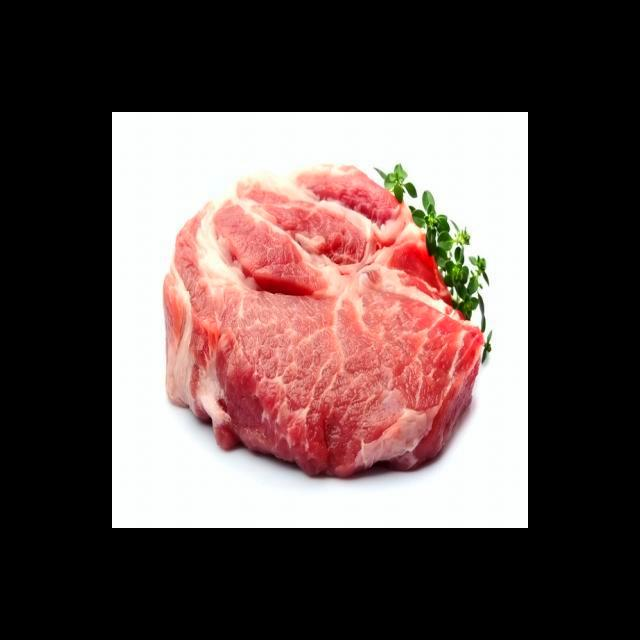pork: (172, 154, 489, 493)
